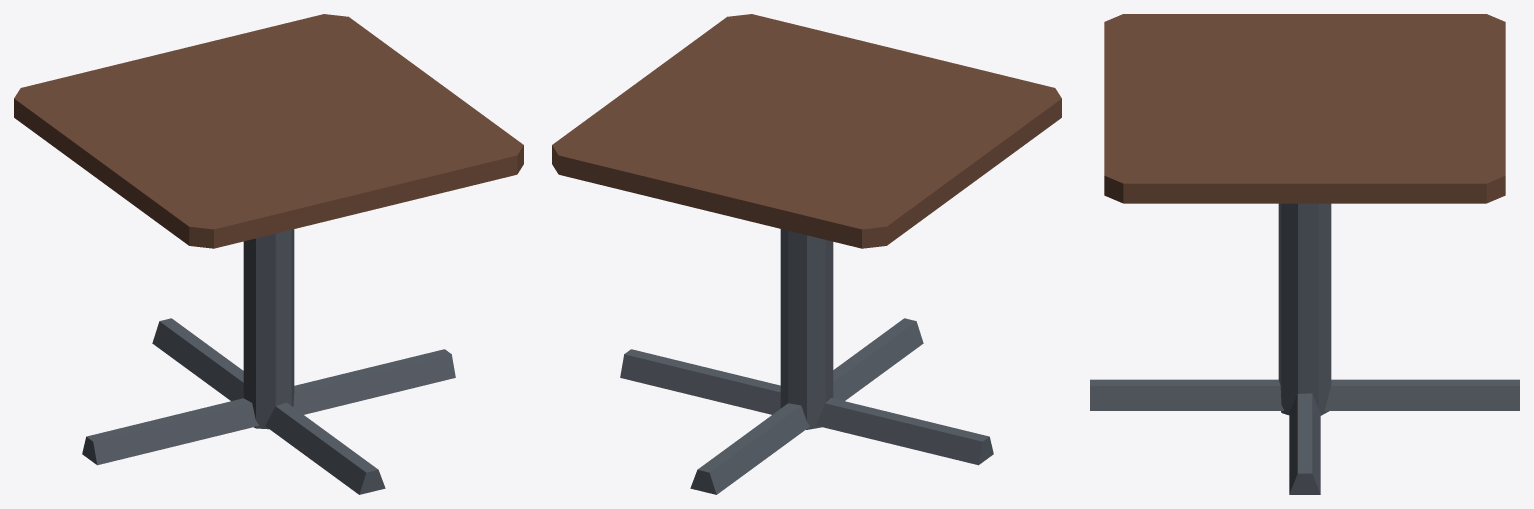
The model's file is CafeTableB.fbx.
3 renders of one model, left to right at view 1: azimuth 30°, elevation 25°; view 2: azimuth 150°, elevation 25°; view 3: azimuth 270°, elevation 25°, orthographic. The views are drawn at different scales.
Visible parts, largest first — view 1: CafeTableB; view 2: CafeTableB; view 3: CafeTableB.
Part boxes in pixels (box(x1,y1,x2,y2)): CafeTableB: box(14, 14, 523, 494); CafeTableB: box(552, 14, 1061, 494); CafeTableB: box(1090, 14, 1519, 494).
Bounding box in the file's own units: 90.47 × 71.66 × 90.47.
